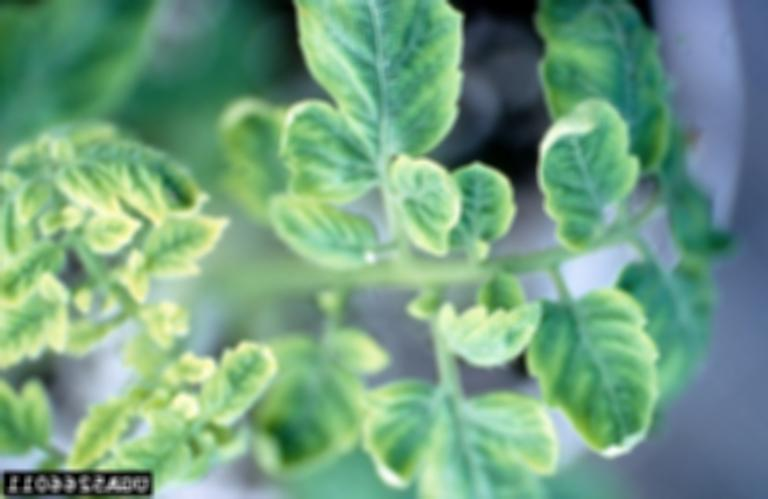Tomato leaf yellow virus: (276, 3, 467, 153), (522, 290, 668, 465), (362, 378, 559, 490), (534, 102, 639, 253), (269, 82, 388, 207), (240, 195, 389, 272), (182, 329, 280, 441), (440, 161, 528, 273), (377, 157, 466, 258), (433, 288, 544, 367), (127, 209, 231, 284)
